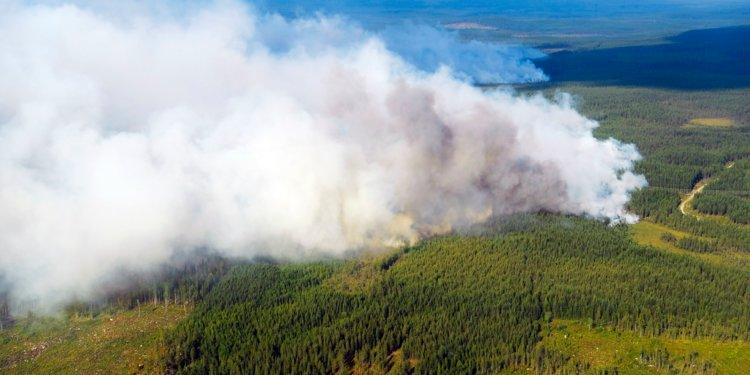smoke: (0, 4, 645, 222)
